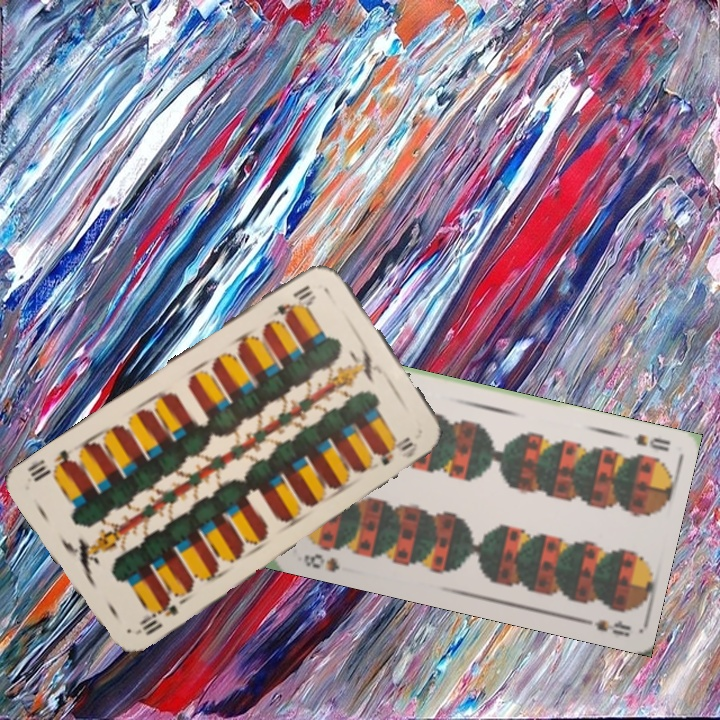E10: (269, 280, 319, 321), (135, 594, 181, 638)
S8: (299, 549, 342, 575), (630, 430, 674, 454)
